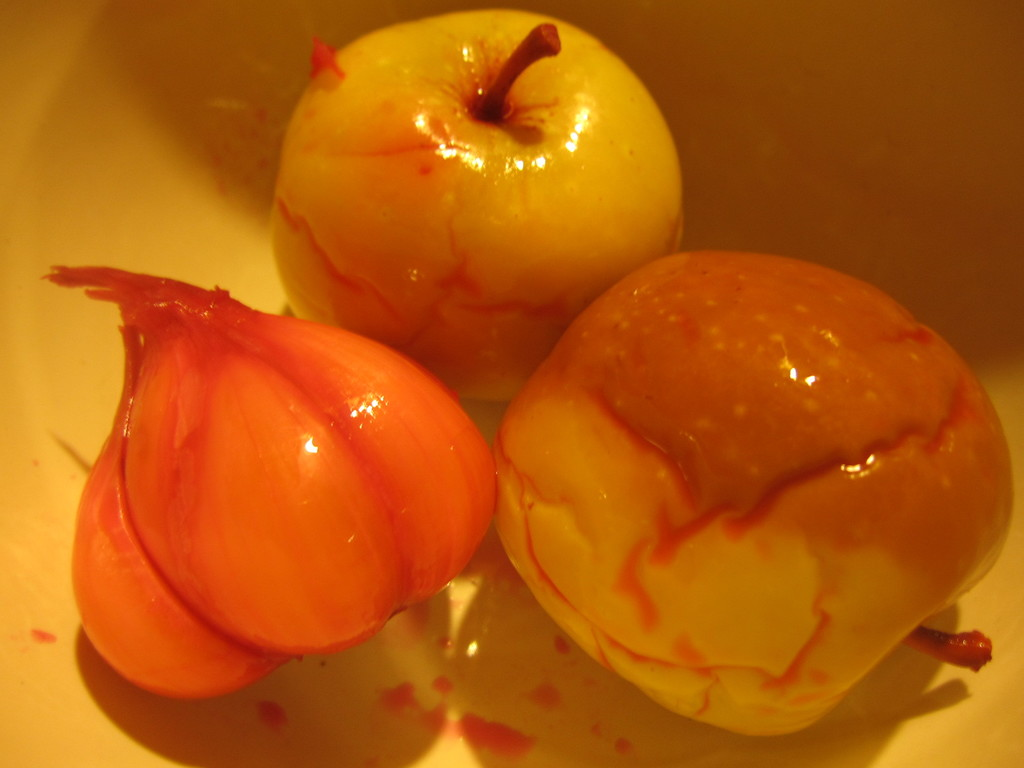Apple: (490, 246, 1012, 737), (268, 10, 690, 403)
